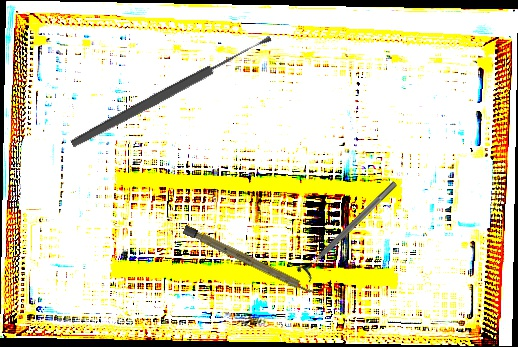Fixation Ring: (294, 175, 404, 284)
Scalpel Handle: (182, 224, 316, 297)
Surgical Spoon: (69, 32, 274, 151)
